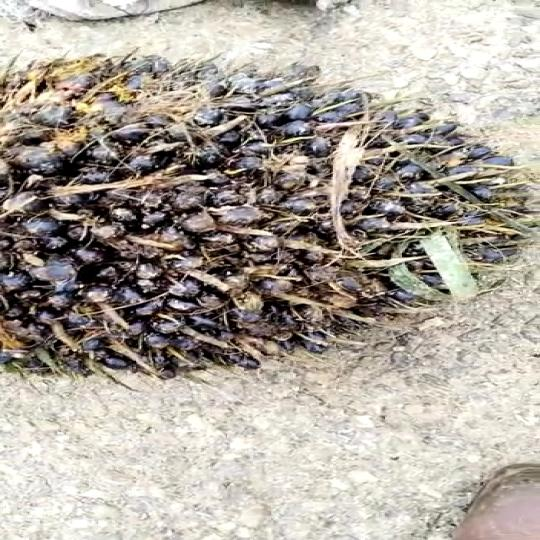mentah: (4, 44, 540, 398)
